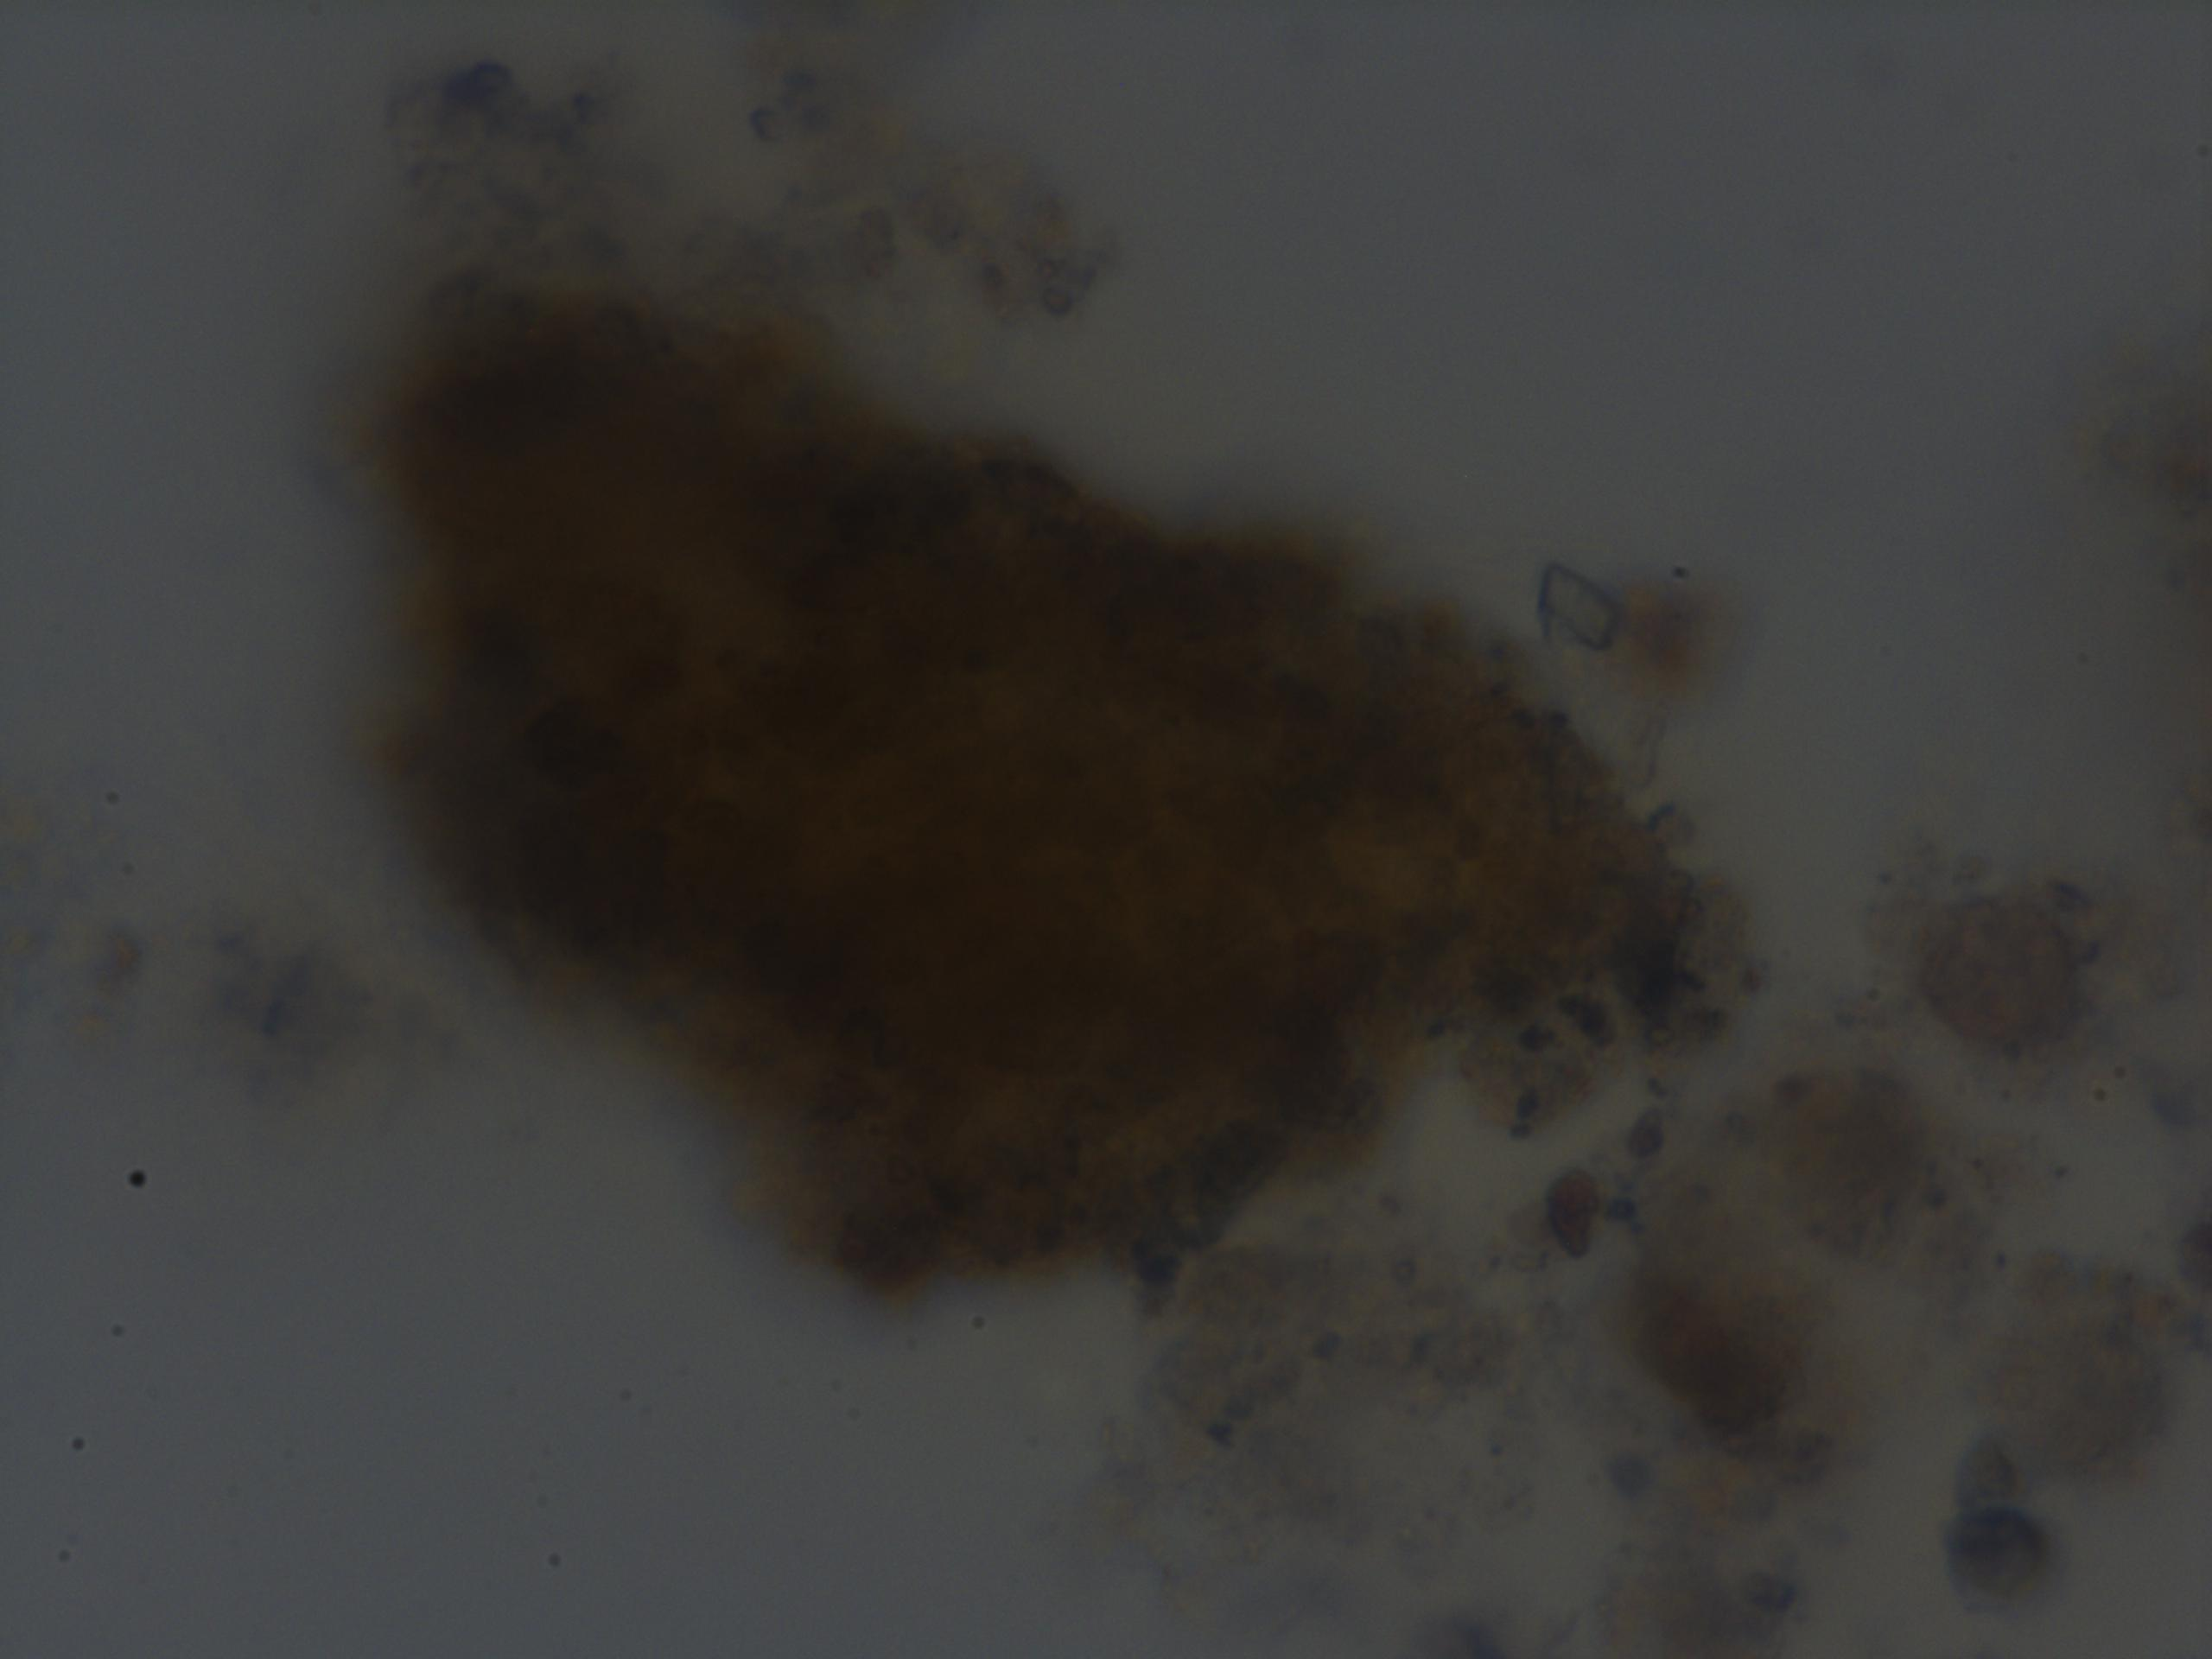spherical_floc: (374, 254, 1724, 1295)
